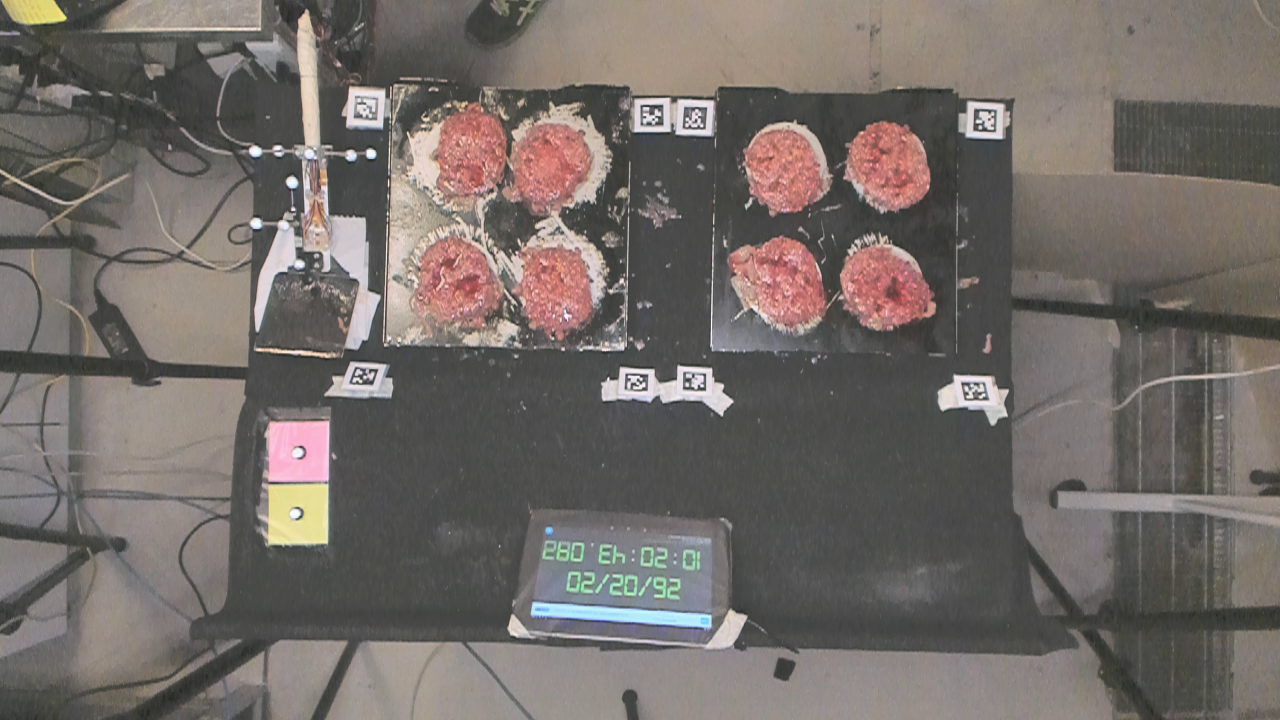hamburger: (847, 237, 940, 328), (851, 123, 936, 210), (741, 127, 824, 216), (418, 243, 498, 329), (517, 245, 596, 330), (750, 237, 820, 332), (436, 109, 507, 193), (518, 128, 593, 202)
marker: (268, 421, 329, 480)
